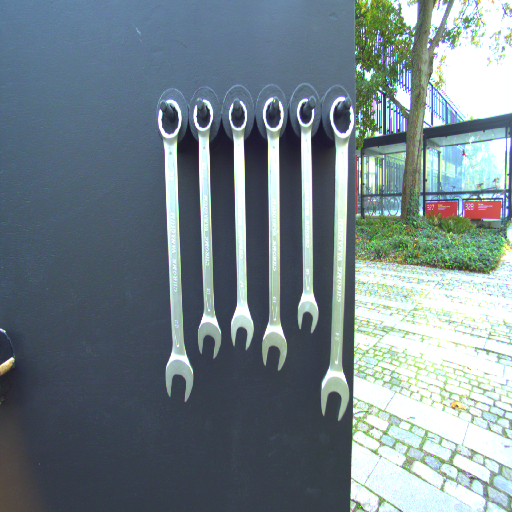bottom: (163, 352, 199, 406), (317, 369, 351, 422), (257, 326, 290, 373), (196, 311, 225, 363), (294, 293, 321, 336), (229, 309, 253, 352)
top: (327, 94, 356, 143), (260, 95, 287, 135), (158, 98, 182, 142), (227, 98, 251, 134), (295, 96, 318, 131), (192, 98, 213, 134)
